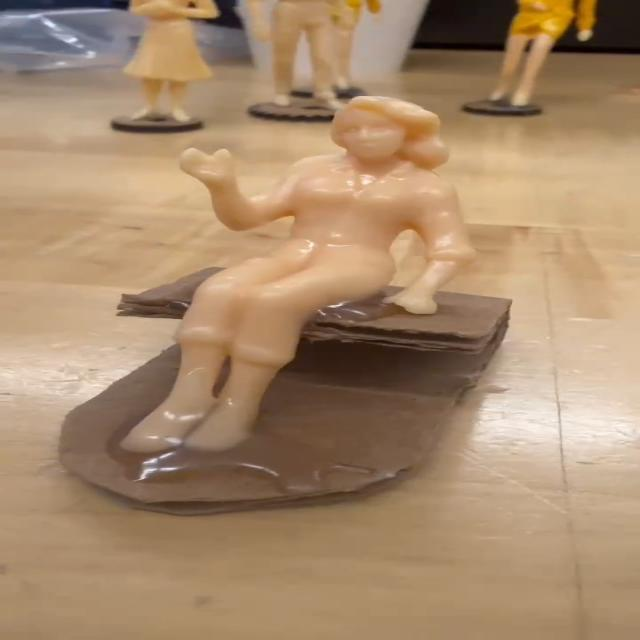Unauthorized: (135, 89, 476, 468)
